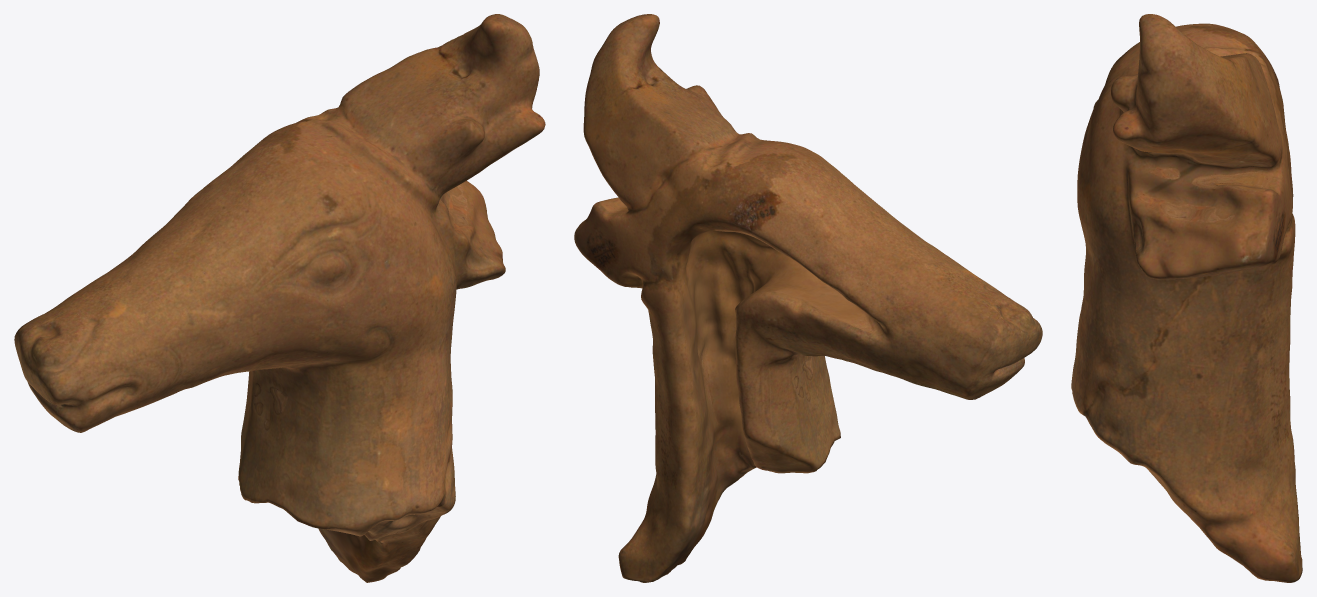
Rendered from MysonMuseum_gazelle.glb.
The picture shows the model from 3 angles, left to right: view 1: azimuth 30°, elevation 25°; view 2: azimuth 150°, elevation 25°; view 3: azimuth 270°, elevation 25°; orthographic projection. The views are drawn at different scales.
Parts seen in each view (by area): view 1: remesh; view 2: remesh; view 3: remesh.
Part boxes in pixels (x1,y1,x2,y2): remesh: [14, 14, 545, 582]; remesh: [574, 14, 1042, 582]; remesh: [1071, 14, 1302, 582].
Size of the model in its own units: 0.2966 by 0.3311 by 0.1183.
Materials: 1 (1 with a texture image).
